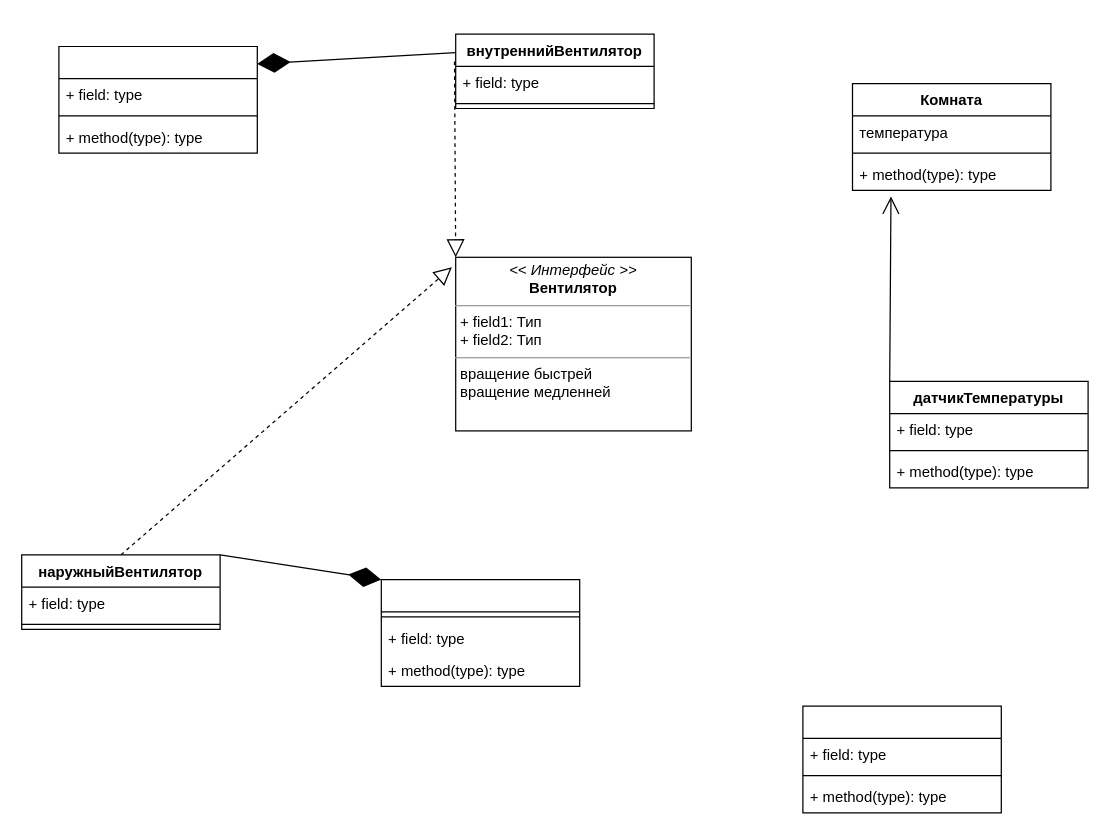
Some shapes in this 1110 by 838 pixel diagram are drawn without their labels. The shapes that lost their labels are listed below. From the top down, each one's box as (x1, y1, x2, y2) in pixels, then its label:
(58, 45, 257, 153): ВнутреннийБлок
(380, 578, 580, 686): НаружныйБлок
(802, 705, 1001, 813): Пульт
